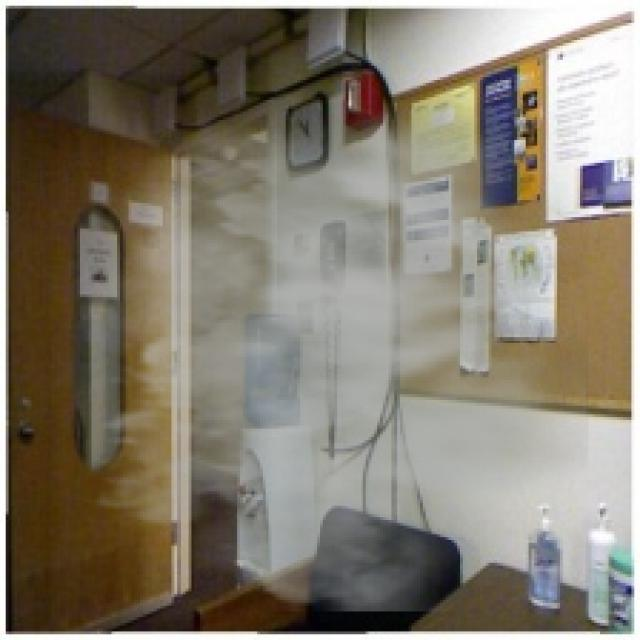smoke: (43, 80, 588, 611)
